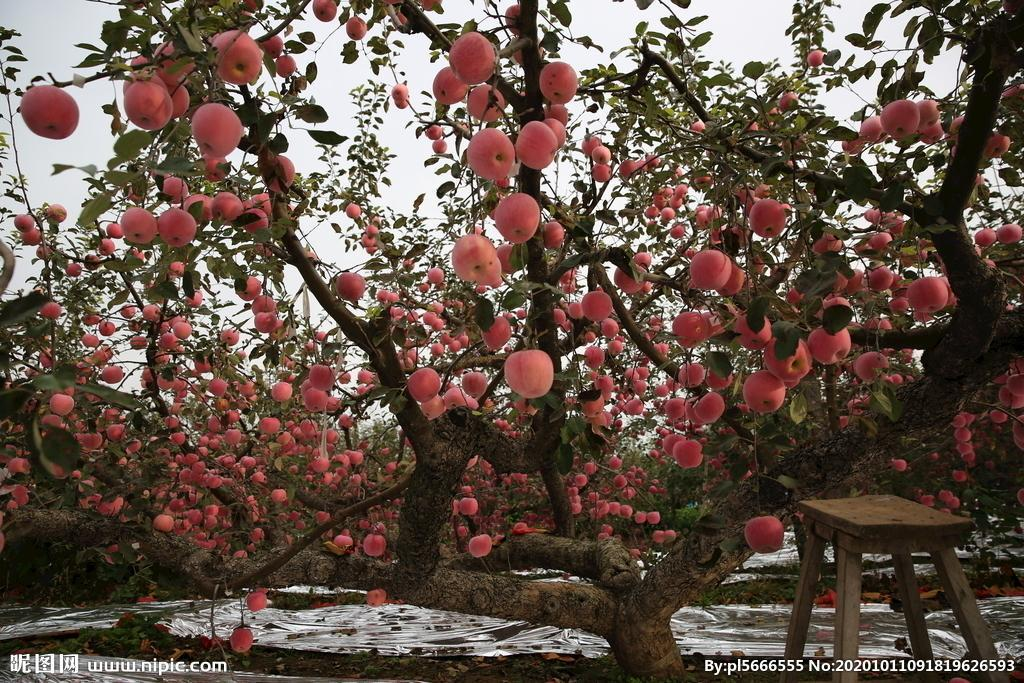apple: (20, 82, 79, 141), (189, 102, 243, 160), (209, 28, 262, 85), (450, 232, 503, 288), (466, 127, 515, 184), (688, 248, 745, 296), (448, 31, 496, 84), (123, 79, 172, 130), (493, 191, 540, 243), (504, 349, 553, 396), (762, 335, 812, 380), (514, 121, 557, 169), (539, 60, 579, 103), (747, 198, 788, 239), (880, 99, 922, 139), (744, 370, 785, 410), (744, 514, 785, 554), (157, 207, 195, 248), (908, 276, 948, 314), (119, 206, 157, 245), (431, 67, 467, 104), (469, 83, 504, 121), (406, 367, 440, 402), (332, 271, 365, 305), (916, 100, 944, 139), (209, 191, 242, 222), (854, 349, 887, 380), (673, 435, 702, 468), (696, 391, 725, 424), (229, 209, 268, 232), (161, 174, 187, 206), (181, 195, 206, 225), (541, 219, 564, 250), (256, 32, 284, 57), (237, 273, 263, 299), (863, 230, 891, 253), (248, 294, 274, 316), (804, 48, 827, 70), (276, 55, 297, 79)
